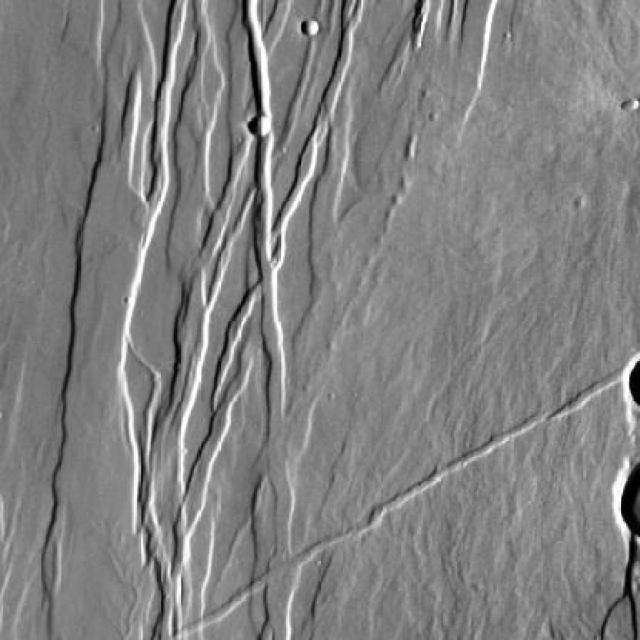crater: (248, 115, 272, 137), (300, 17, 320, 35)
